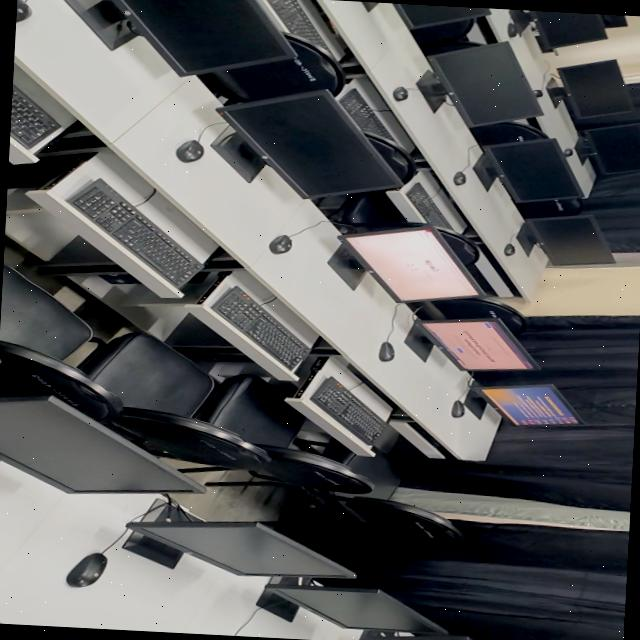Chair: (86, 333, 269, 469), (204, 454, 462, 545), (196, 376, 373, 494), (0, 265, 121, 420), (200, 36, 346, 106), (407, 298, 525, 334), (361, 128, 416, 185), (469, 122, 547, 147), (410, 19, 476, 46)
Cpu: (6, 156, 76, 190), (101, 274, 140, 285)
Keyboard: (66, 180, 202, 288), (210, 287, 309, 370), (310, 378, 385, 445), (9, 84, 60, 149), (265, 0, 328, 52), (339, 88, 395, 144), (406, 183, 453, 231)
Monitor: (0, 395, 202, 494), (216, 90, 397, 199), (123, 496, 354, 578), (64, 0, 292, 77), (416, 42, 541, 128), (257, 579, 447, 634), (345, 230, 476, 301), (472, 139, 584, 203), (414, 318, 538, 371), (547, 60, 632, 129), (471, 381, 582, 425), (526, 215, 614, 266), (574, 124, 640, 178), (528, 10, 605, 52), (390, 3, 490, 30), (360, 631, 472, 640), (600, 14, 627, 28)
Mouse: (66, 553, 106, 587), (175, 140, 203, 163), (269, 235, 292, 255), (15, 0, 31, 23), (392, 87, 408, 101), (451, 401, 464, 418), (507, 23, 520, 38), (453, 172, 466, 186), (503, 244, 514, 256), (563, 149, 573, 157), (533, 90, 542, 98)
